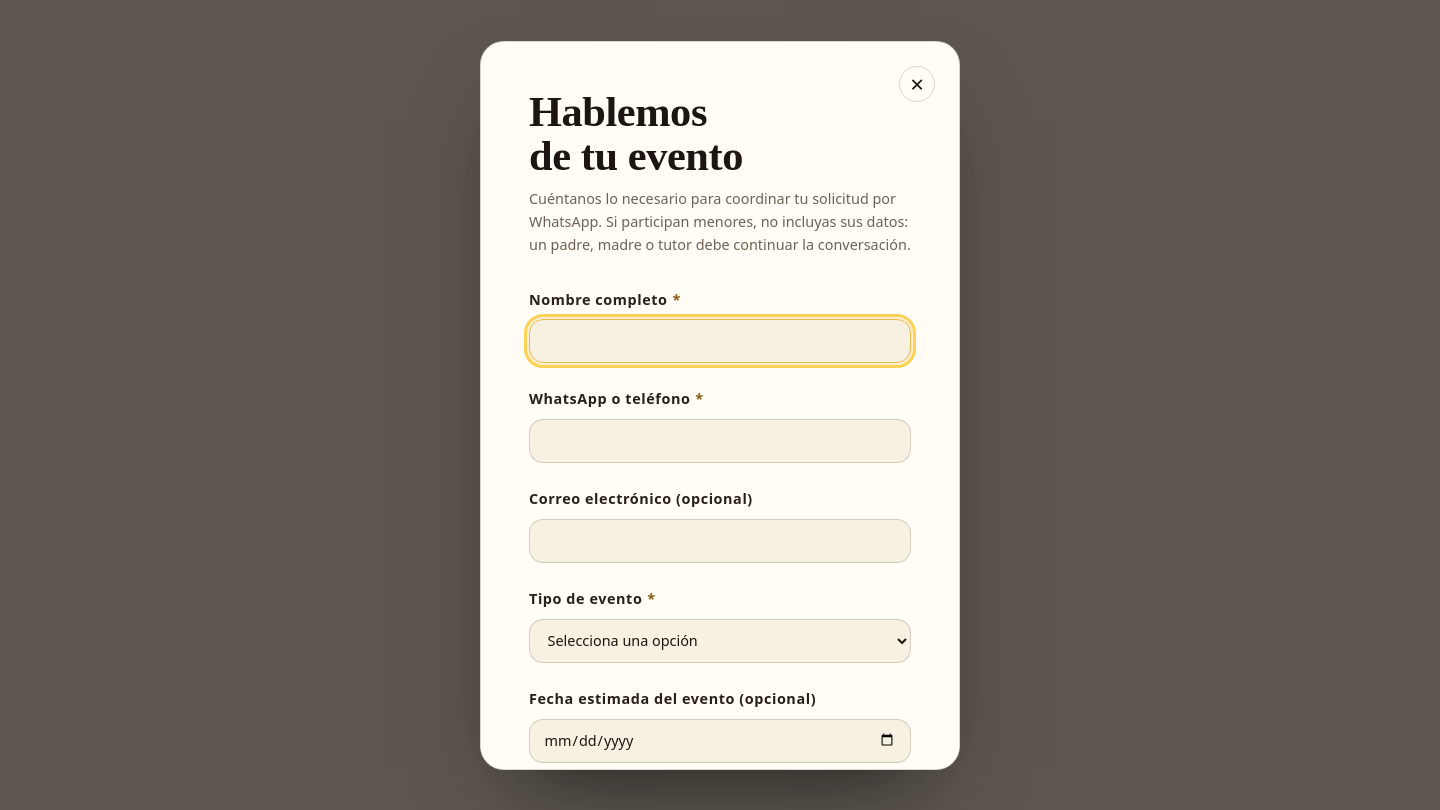
Test: EventModal › valida telefono minimo 7 digitos y email invalido
The image size is (1440, 810).
Type "Ana" into the field labelled "Nombre completo *". click: (720, 341)
box: top-left (529, 319), bottom-right (911, 363)
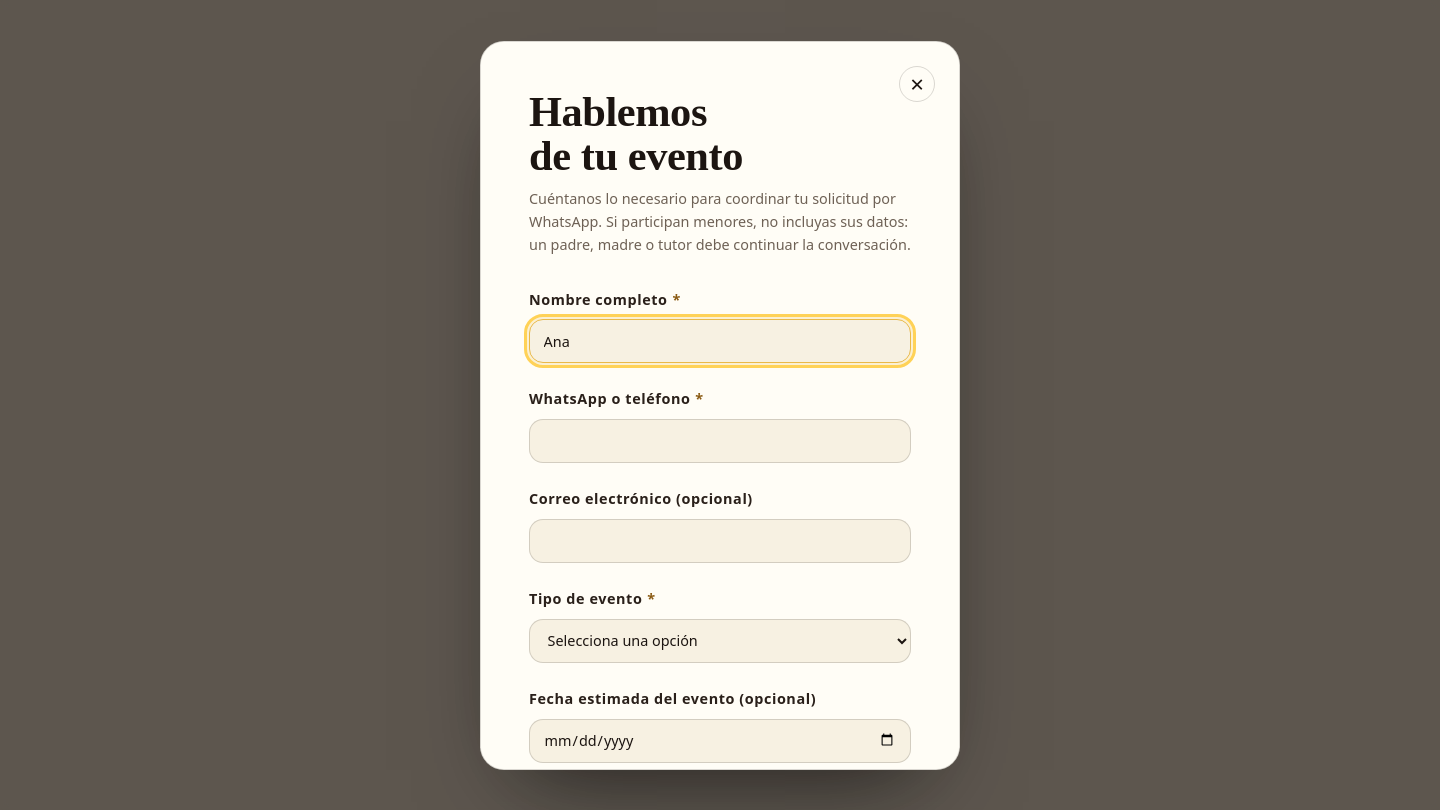
Type "123" into the field labelled "WhatsApp o teléfono *". click: (720, 441)
box: top-left (529, 419), bottom-right (911, 463)
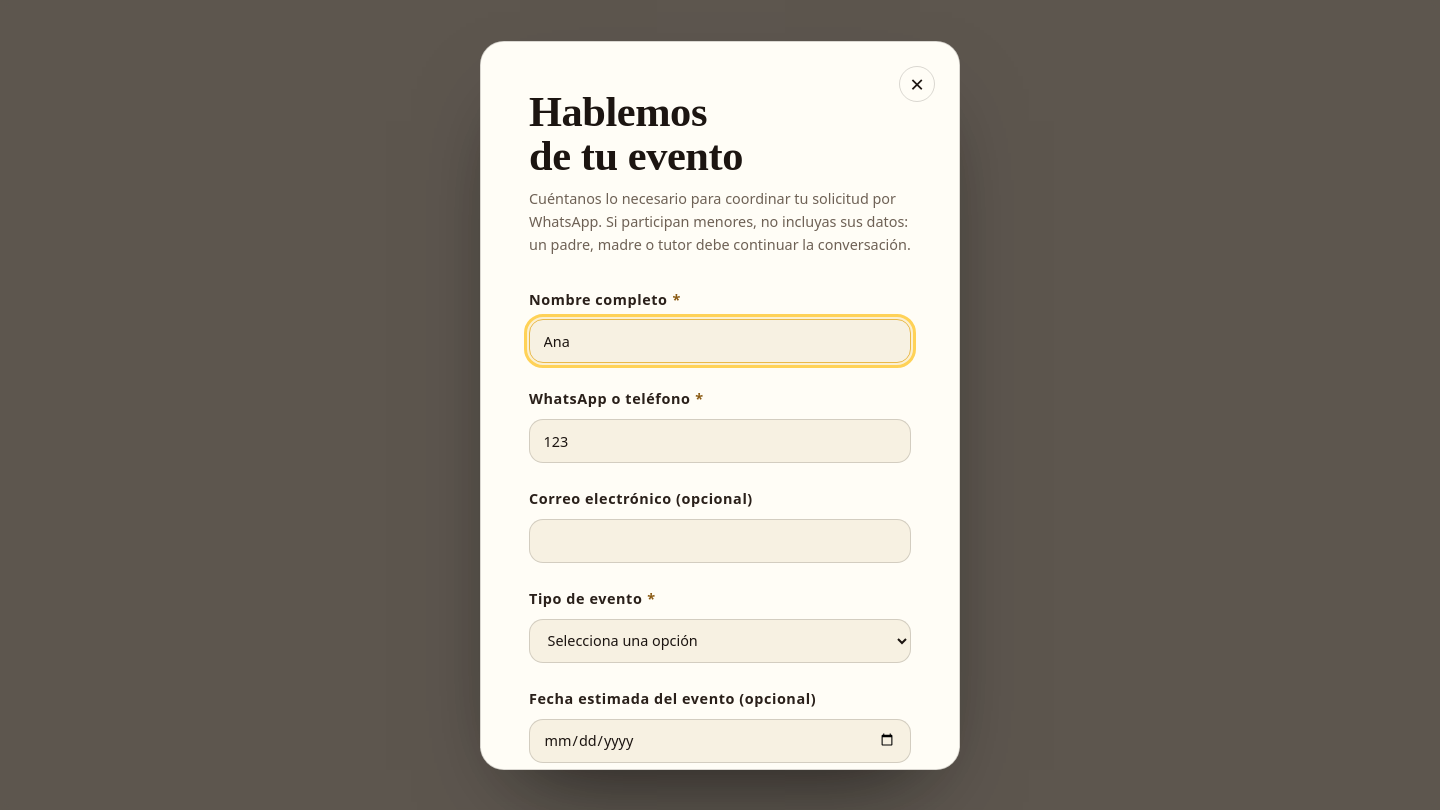
Type "no-es-un-email" into the field labelled "Correo electrónico (opcional)". click: (720, 541)
box: top-left (529, 519), bottom-right (911, 563)
(page scrolled)
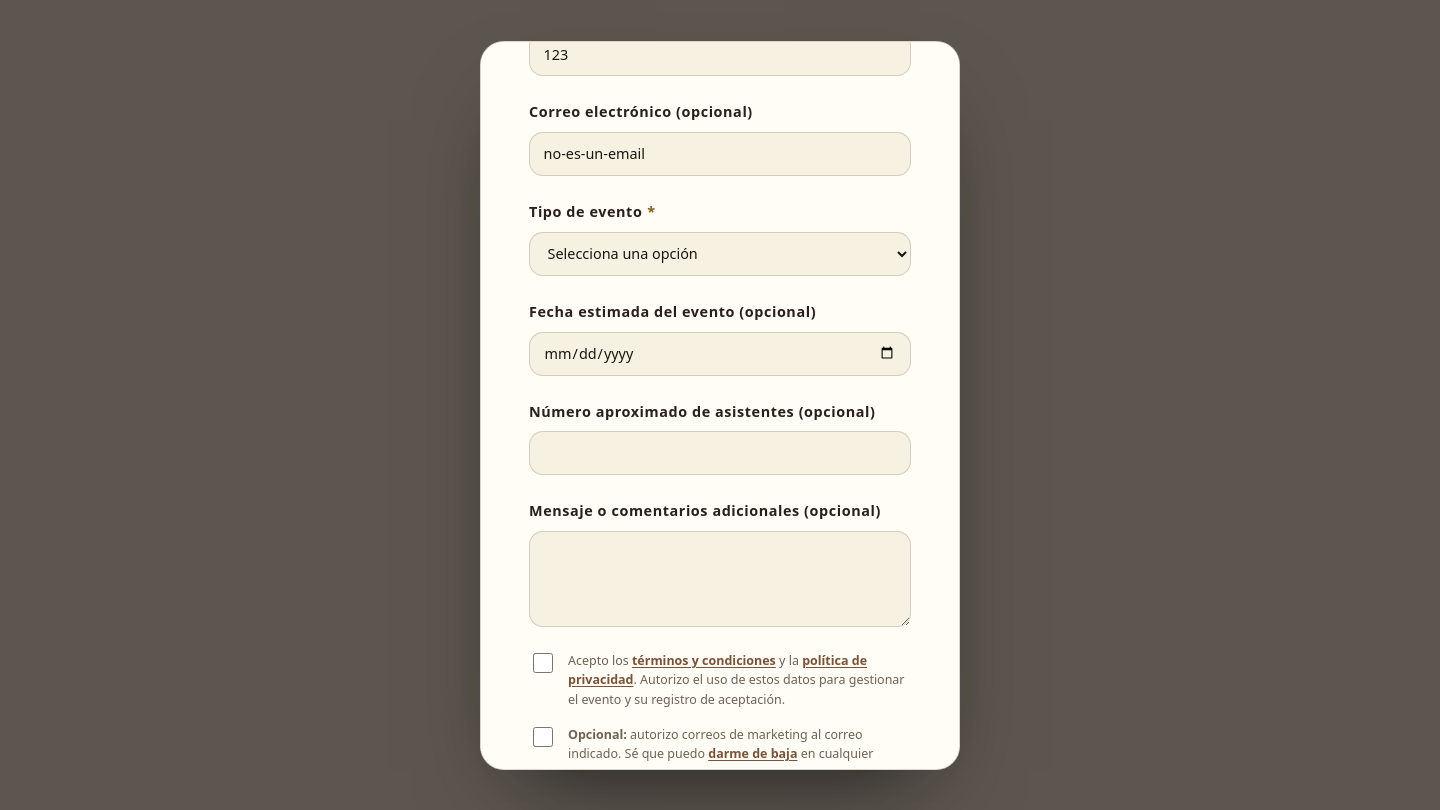
Submit the form with test id "event-form"
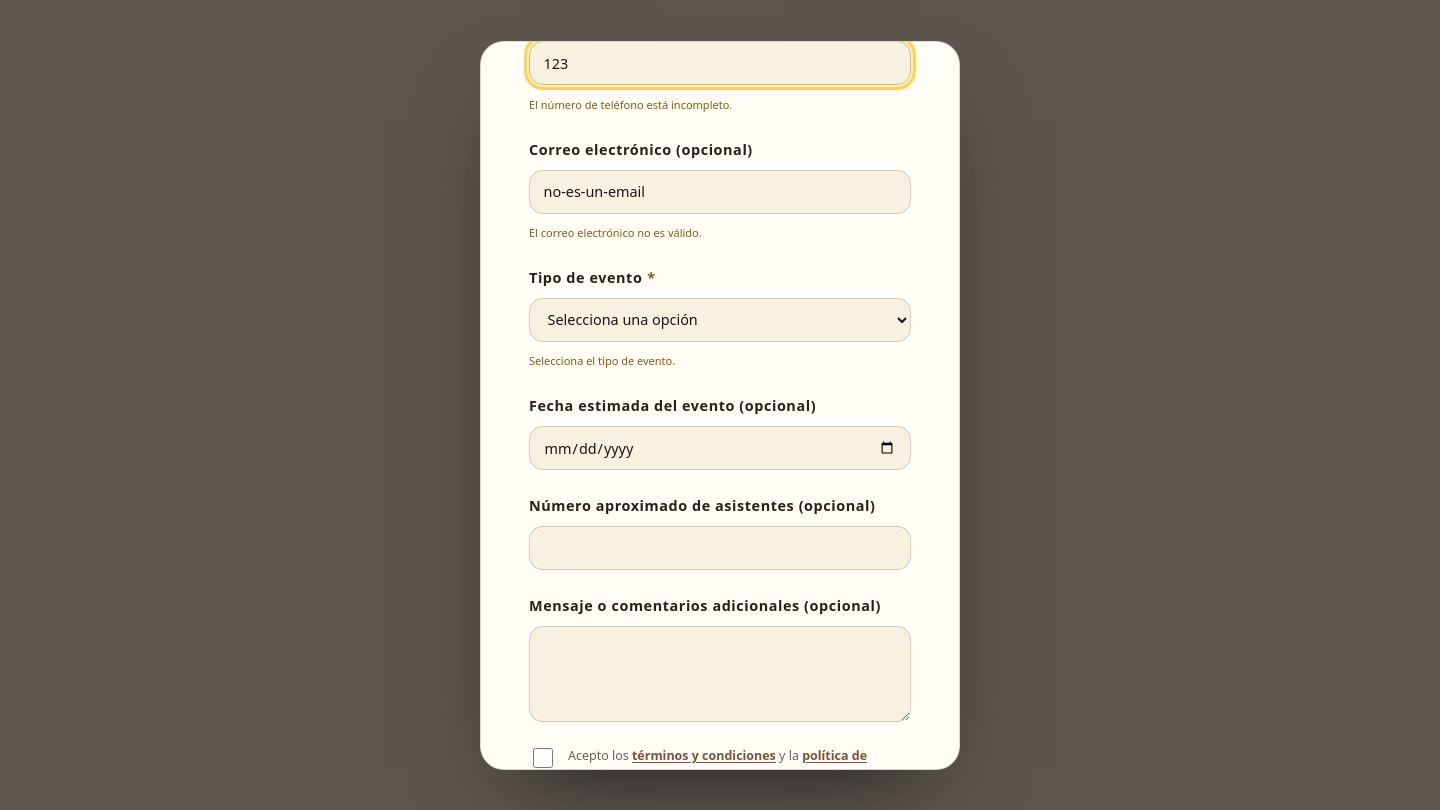
Expected: the text "El número de teléfono está incompleto." is shown, top-left (529, 97), bottom-right (732, 112)
Expected: the text "El correo electrónico no es válido." is shown, top-left (529, 225), bottom-right (702, 240)
